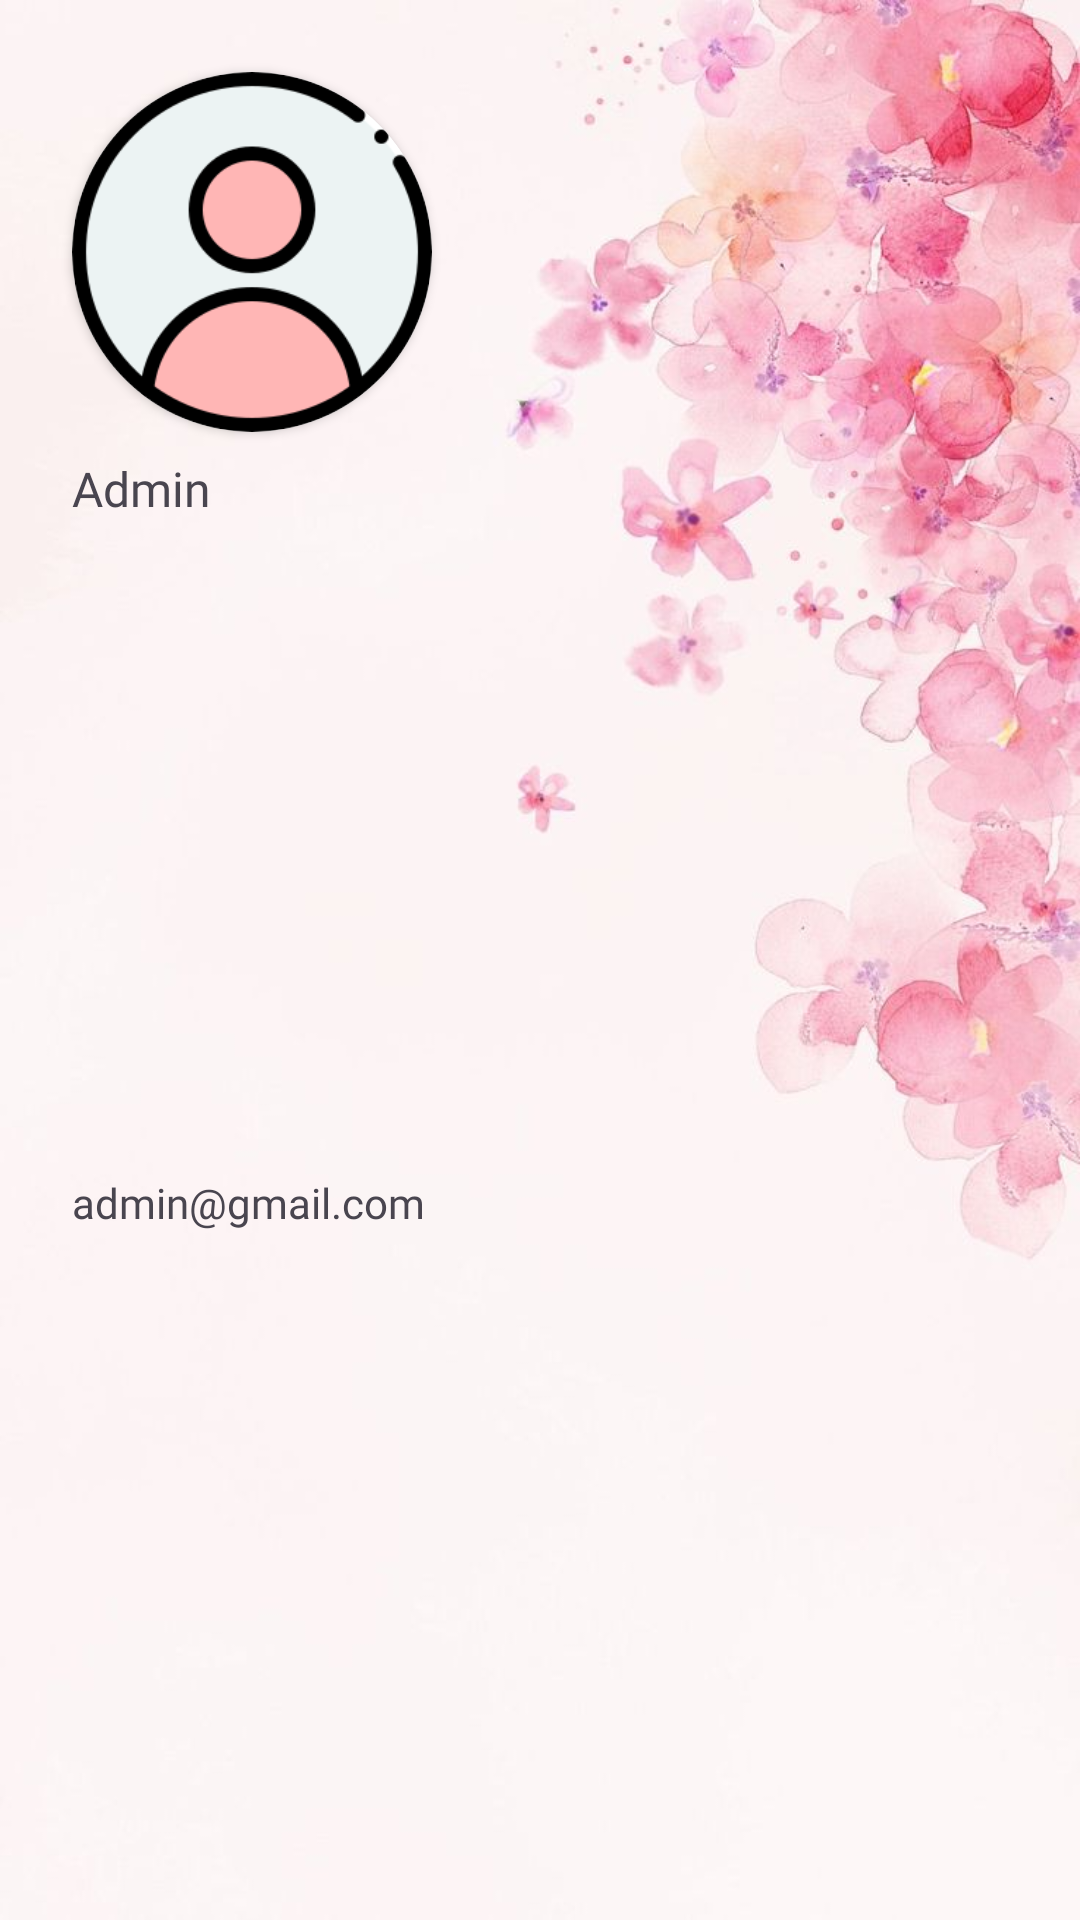

Point at icon controls on the screen. Image size 1080px×1920px, points as (x=x, y=y).
user profile: (x=252, y=252)
